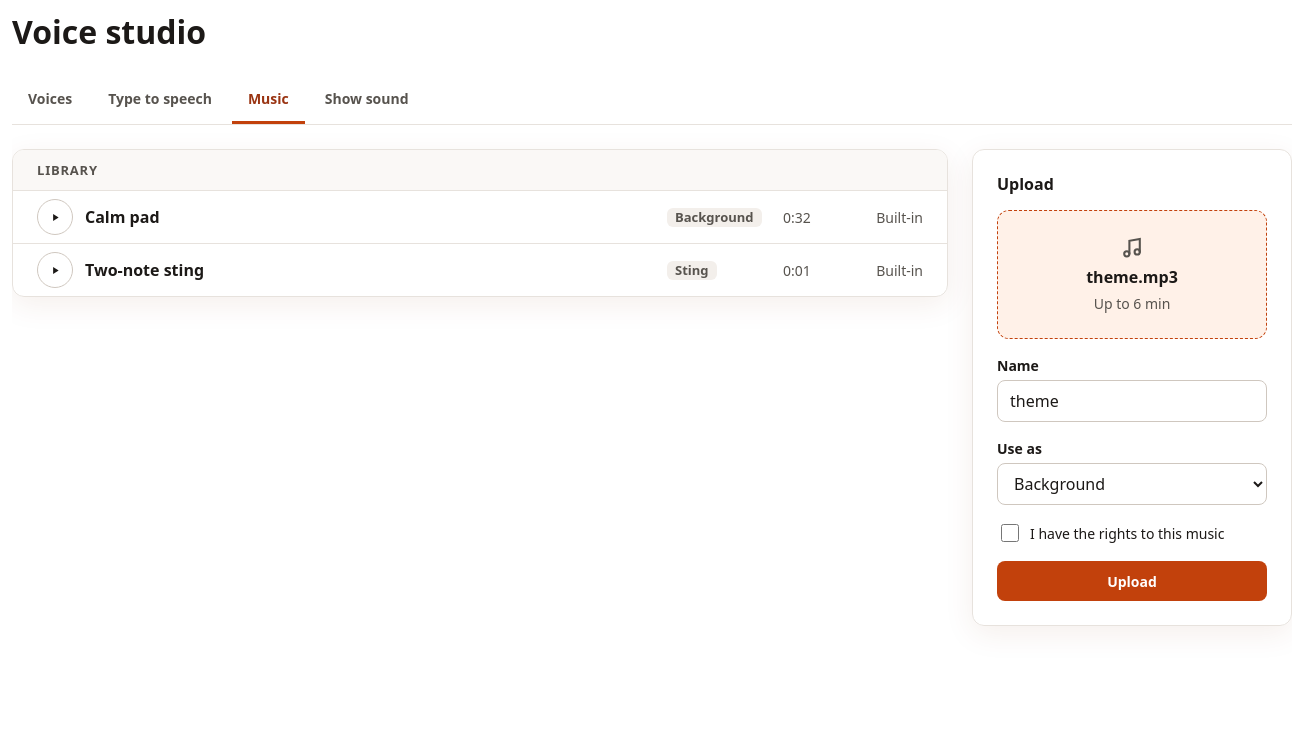
Test: voice studio › asks for the rights before uploading music
The image size is (1292, 732).
Earlier steps of the test are not shown.
Expected: the text "Calm pad" is shown, [85,206,160,228]
Expected: the field labelled "Name" holds "theme", [997,380,1267,422]
Step 1. Click the button "Upload" → (1132, 581), box [997,561,1267,601]
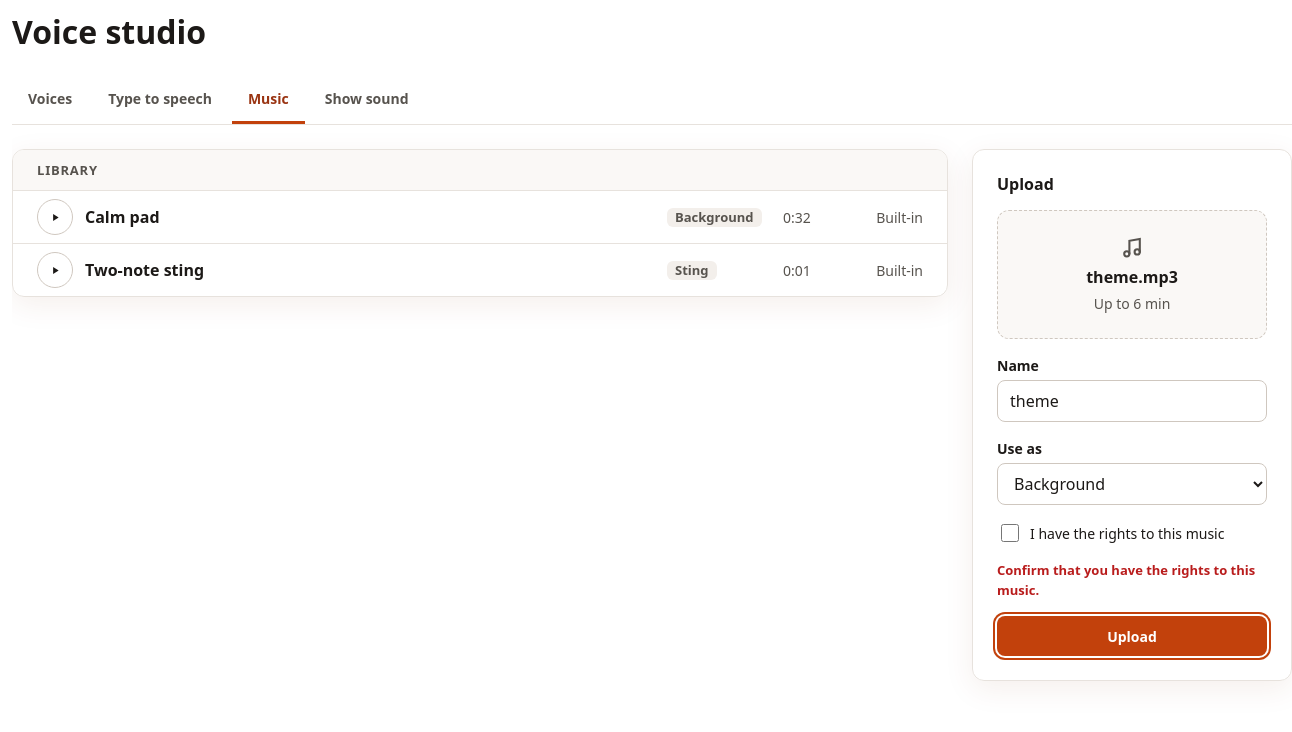
Expected: the text "Confirm that you have the rights to this music." is shown, [997,561,1267,600]
